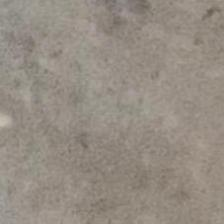Non_Crack: (26, 31, 221, 210)
